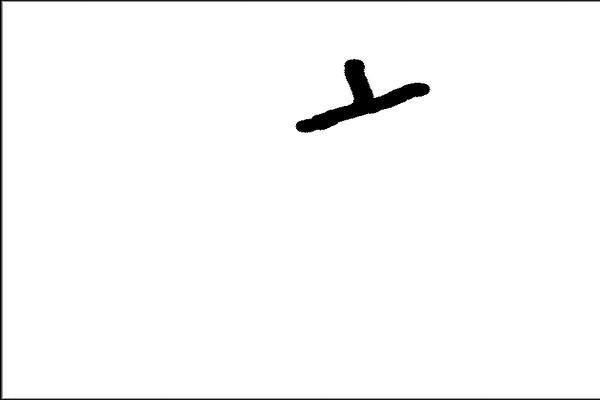Y: (278, 44, 443, 142)
